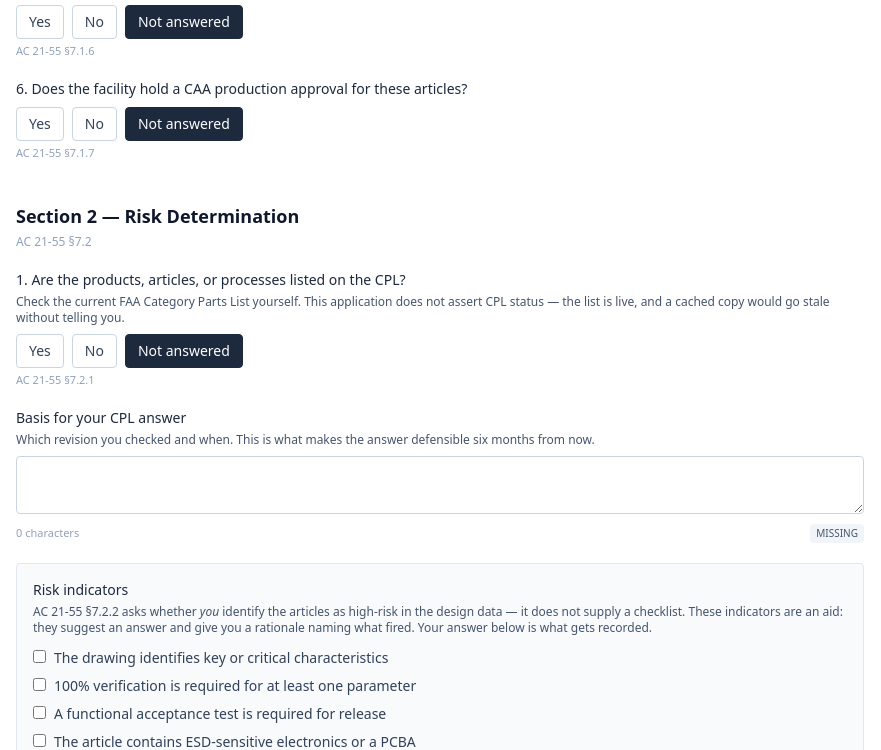
Test: the intake is adaptive, not a long static form › hides the critical-characteristics field until CPL or high-risk is Yes
(page scrolled)
Check: the text "3. Describe the critical characteristics" is not shown
Click the button "Yes" below "Section 2 — Risk Determination".
click(40, 350)  # box [16,334,64,368]
(page scrolled)
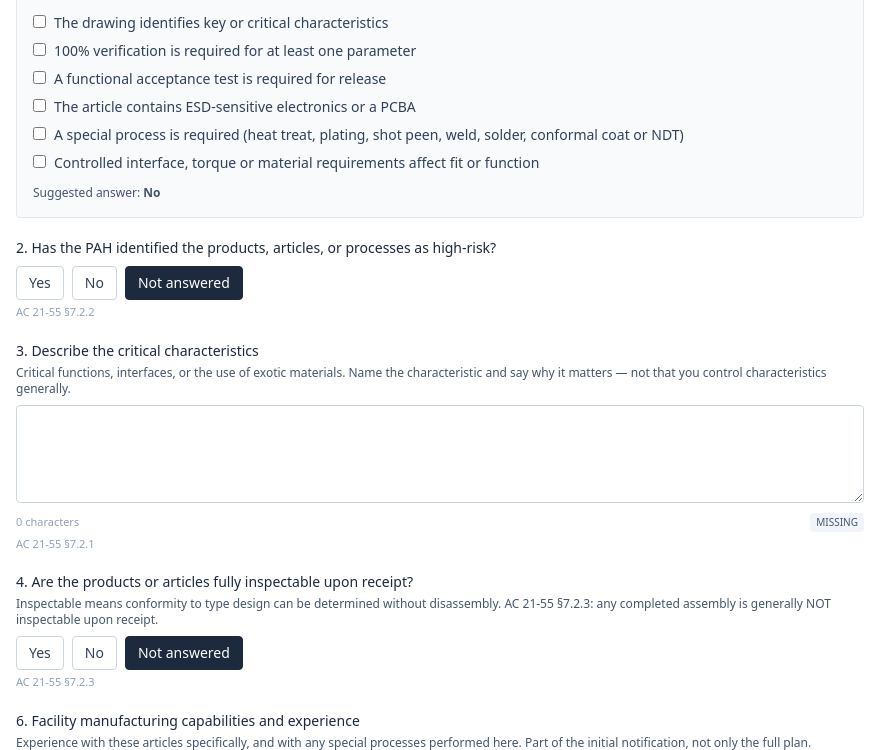
Check: the text "3. Describe the critical characteristics" is shown, box [16,340,259,360]
